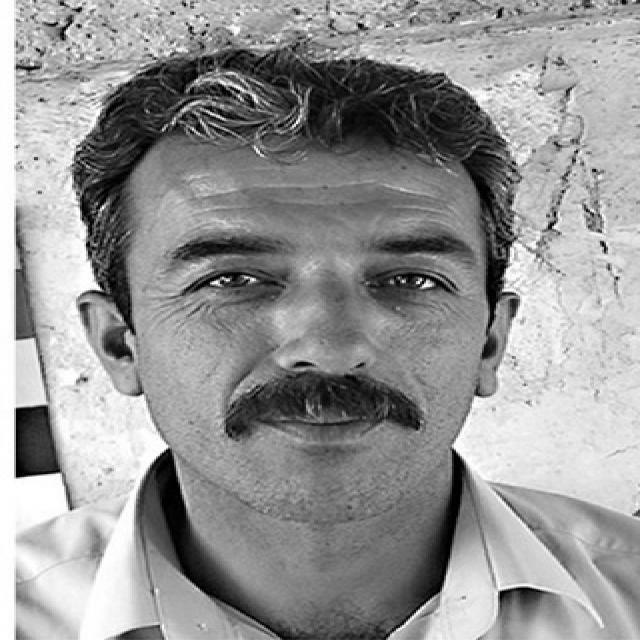without_mask: (120, 133, 498, 525)
